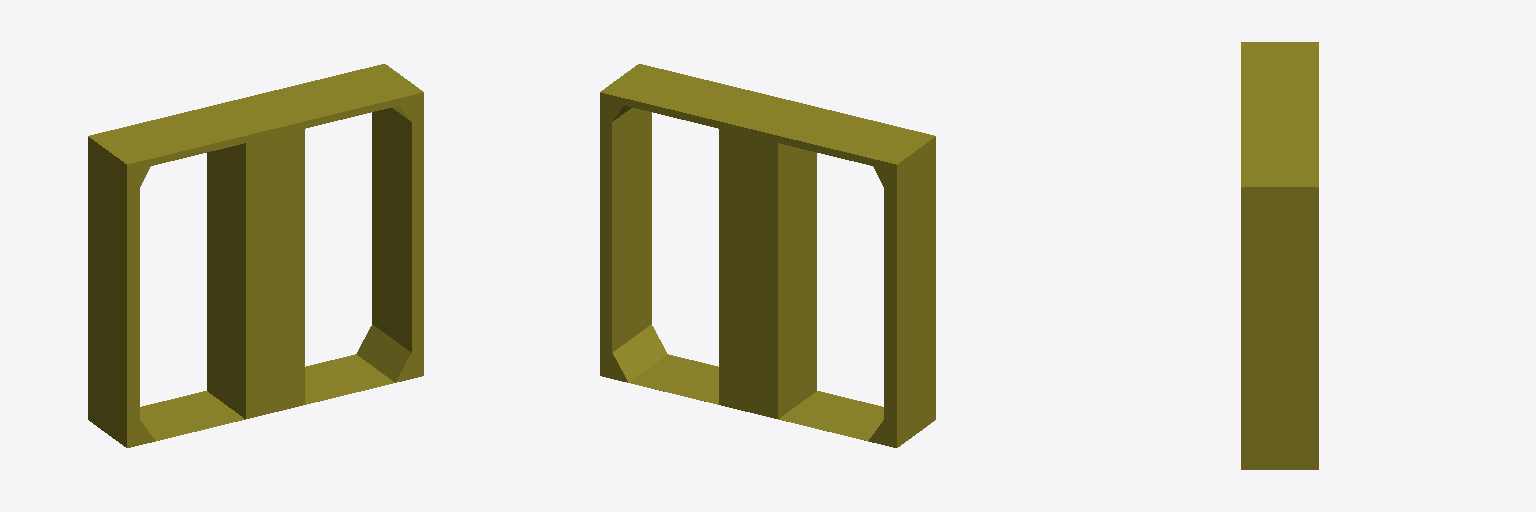
3 renders of one model, left to right at view 1: azimuth 30°, elevation 25°; view 2: azimuth 150°, elevation 25°; view 3: azimuth 270°, elevation 25°, orthographic.
Parts seen in each view (by area): view 1: parts2_立方体.002; view 2: parts2_立方体.002; view 3: parts2_立方体.002.
Part boxes in pixels (x1,y1,x2,y2): parts2_立方体.002: (88,64,423,447); parts2_立方体.002: (600,64,935,447); parts2_立方体.002: (1241,42,1318,469).
Size of the model in its own units: 0.5414 by 0.494 by 0.1238.
1 materials, 1 textured.